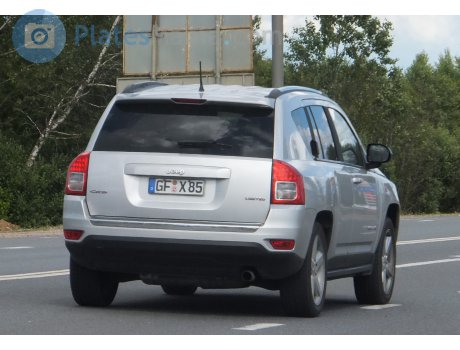License Plates: (152, 176, 203, 190)
